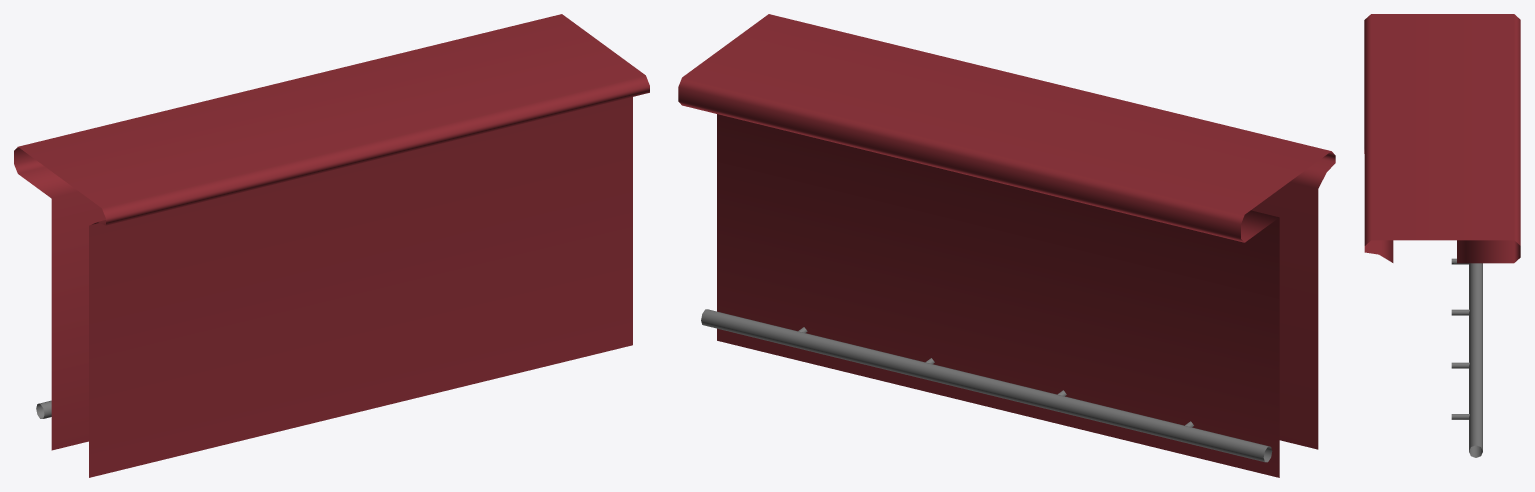
File: Bar set 2.fbx
3 renders of one model, left to right at view 1: azimuth 30°, elevation 25°; view 2: azimuth 150°, elevation 25°; view 3: azimuth 270°, elevation 25°, orthographic. The views are drawn at different scales.
Visible parts, largest first — view 1: polySurface27; view 2: polySurface27; view 3: polySurface27.
Part boxes in pixels (x1,y1,x2,y2): polySurface27: (14, 14, 649, 477); polySurface27: (678, 14, 1335, 477); polySurface27: (1364, 14, 1520, 457).
Size of the model in its own units: 210 by 103 by 61.33.
